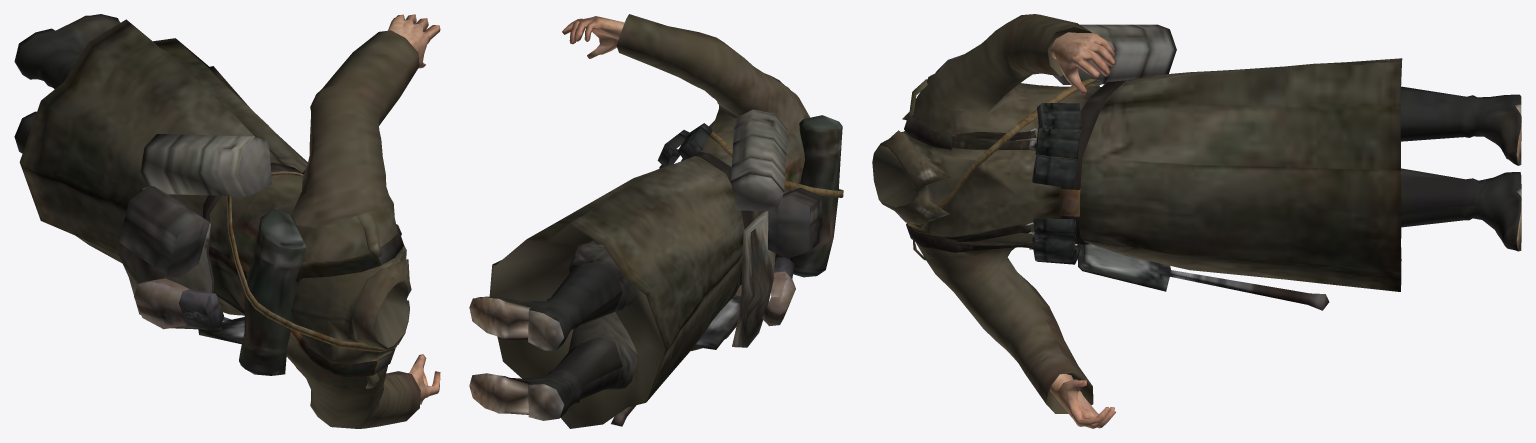
Rendered from playerbody_german_winterdark.glb.
3 views of the same model, side by side, from view 1: azimuth 30°, elevation 25°; view 2: azimuth 150°, elevation 25°; view 3: azimuth 270°, elevation 25° (orthographic). The views are drawn at different scales.
Size of the model in its own units: 33.57 by 42.06 by 63.27.
Materials: 1 (1 with a texture image).
